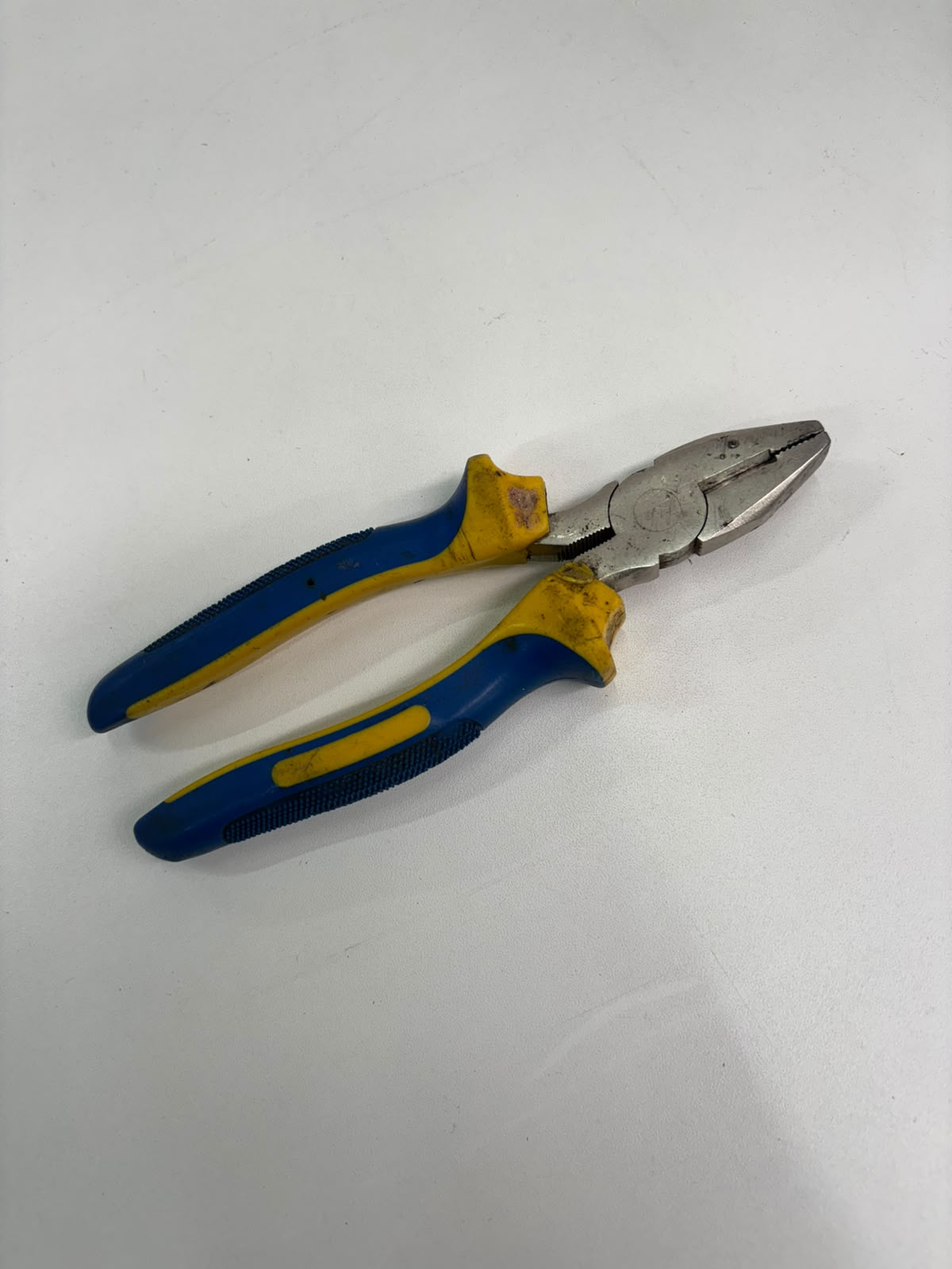plier: (80, 369, 843, 872)
